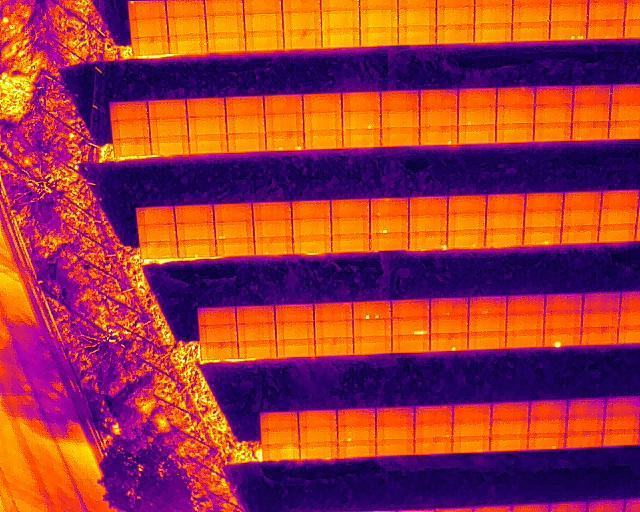Cell: (128, 0, 166, 19), (370, 216, 409, 234), (458, 107, 497, 125), (418, 128, 457, 146), (178, 240, 218, 257), (342, 112, 381, 129), (430, 334, 468, 351), (409, 233, 448, 249), (544, 330, 580, 347), (337, 426, 376, 441)
Cell-Multi: (265, 132, 305, 151), (352, 302, 392, 320), (549, 21, 587, 39), (215, 223, 253, 239)
No-Anomaly: (512, 0, 550, 22), (419, 90, 458, 110), (457, 125, 496, 145), (244, 31, 283, 51), (586, 0, 626, 19), (302, 93, 342, 112), (110, 102, 148, 122), (302, 112, 342, 131), (473, 4, 513, 23), (512, 22, 550, 42), (397, 7, 436, 26), (292, 218, 331, 237), (167, 17, 206, 36), (429, 298, 468, 317), (380, 91, 419, 110), (264, 95, 303, 114), (342, 129, 381, 148), (359, 27, 398, 46), (283, 29, 322, 48), (452, 403, 491, 422), (375, 406, 414, 425), (544, 294, 581, 314), (112, 120, 149, 140), (186, 99, 227, 117), (322, 10, 360, 29), (582, 292, 620, 311), (573, 86, 611, 105), (550, 0, 588, 19), (226, 97, 264, 116), (436, 24, 474, 43), (566, 398, 604, 417), (529, 400, 567, 419), (226, 134, 266, 152), (291, 200, 331, 218), (212, 205, 252, 223), (483, 228, 523, 246), (468, 297, 508, 315), (147, 101, 187, 119), (533, 105, 573, 123), (570, 121, 610, 139), (603, 397, 640, 416), (359, 10, 398, 28), (330, 200, 369, 218), (253, 202, 292, 220), (370, 233, 409, 251), (506, 295, 545, 313), (391, 300, 430, 318), (535, 87, 574, 105), (496, 88, 535, 106), (458, 88, 497, 106), (342, 93, 381, 111), (380, 111, 419, 129), (188, 118, 227, 136), (468, 315, 507, 333), (352, 320, 391, 338), (314, 321, 353, 339), (237, 323, 276, 341), (601, 190, 639, 208), (137, 207, 175, 225), (447, 230, 485, 248), (587, 20, 625, 38), (496, 106, 534, 124), (227, 116, 265, 134), (149, 119, 187, 137), (496, 124, 534, 142), (436, 5, 474, 23), (304, 131, 342, 149), (276, 321, 314, 339), (391, 335, 429, 353), (322, 30, 360, 48), (491, 402, 529, 420), (414, 406, 452, 424), (207, 33, 245, 51), (168, 36, 206, 54), (187, 136, 227, 153), (370, 199, 410, 216), (330, 218, 370, 235), (252, 220, 292, 237), (175, 224, 215, 241), (597, 225, 637, 242), (473, 24, 513, 41), (313, 338, 353, 355), (114, 139, 151, 157), (130, 19, 167, 37), (131, 37, 168, 55), (562, 192, 601, 209), (524, 193, 563, 210), (174, 206, 213, 223), (446, 213, 485, 230), (206, 16, 245, 33), (312, 303, 351, 320), (264, 114, 303, 131), (532, 124, 571, 141), (380, 129, 419, 146), (505, 314, 544, 331), (430, 317, 469, 334), (467, 332, 506, 349), (276, 340, 315, 357), (398, 27, 437, 44), (337, 441, 376, 458), (409, 198, 447, 215), (245, 13, 283, 30), (522, 227, 560, 244), (217, 239, 255, 256), (236, 305, 274, 322), (580, 328, 618, 345), (506, 330, 544, 347), (282, 13, 322, 29), (599, 209, 639, 225), (273, 305, 313, 321), (141, 240, 178, 257), (201, 342, 238, 359), (453, 437, 490, 454), (485, 195, 524, 211), (447, 197, 486, 213), (523, 211, 562, 227), (485, 211, 524, 227), (138, 224, 177, 240), (293, 238, 332, 254), (166, 0, 205, 16), (419, 111, 458, 127), (353, 338, 392, 354), (238, 342, 277, 358), (336, 409, 375, 425), (564, 432, 603, 448), (298, 443, 337, 459), (151, 138, 189, 154), (562, 209, 600, 225), (409, 215, 447, 231), (560, 226, 598, 242), (332, 235, 370, 251), (255, 237, 293, 253), (572, 105, 610, 121), (200, 325, 238, 341), (298, 411, 336, 427), (261, 413, 299, 429), (602, 430, 640, 446), (414, 438, 452, 454), (199, 308, 236, 324), (261, 430, 298, 446), (609, 121, 640, 140), (580, 313, 619, 328), (375, 425, 414, 440), (298, 427, 337, 442), (376, 440, 415, 455), (528, 434, 564, 450), (544, 315, 582, 330), (491, 420, 529, 435), (490, 436, 528, 451), (262, 445, 299, 460), (528, 419, 567, 433), (453, 423, 492, 437), (414, 424, 453, 438), (602, 416, 640, 430), (567, 417, 603, 431), (609, 104, 640, 120), (611, 87, 640, 104), (617, 311, 640, 327), (617, 328, 640, 344), (620, 292, 640, 310)
Unclassified: (391, 318, 430, 335)
